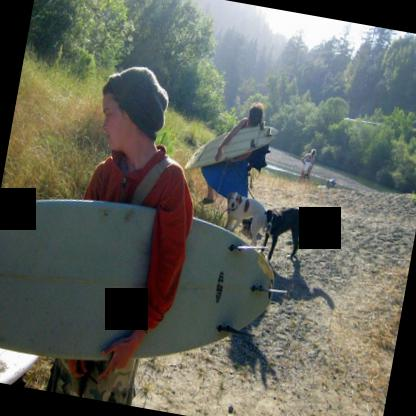backpack: (247, 143, 271, 190)
